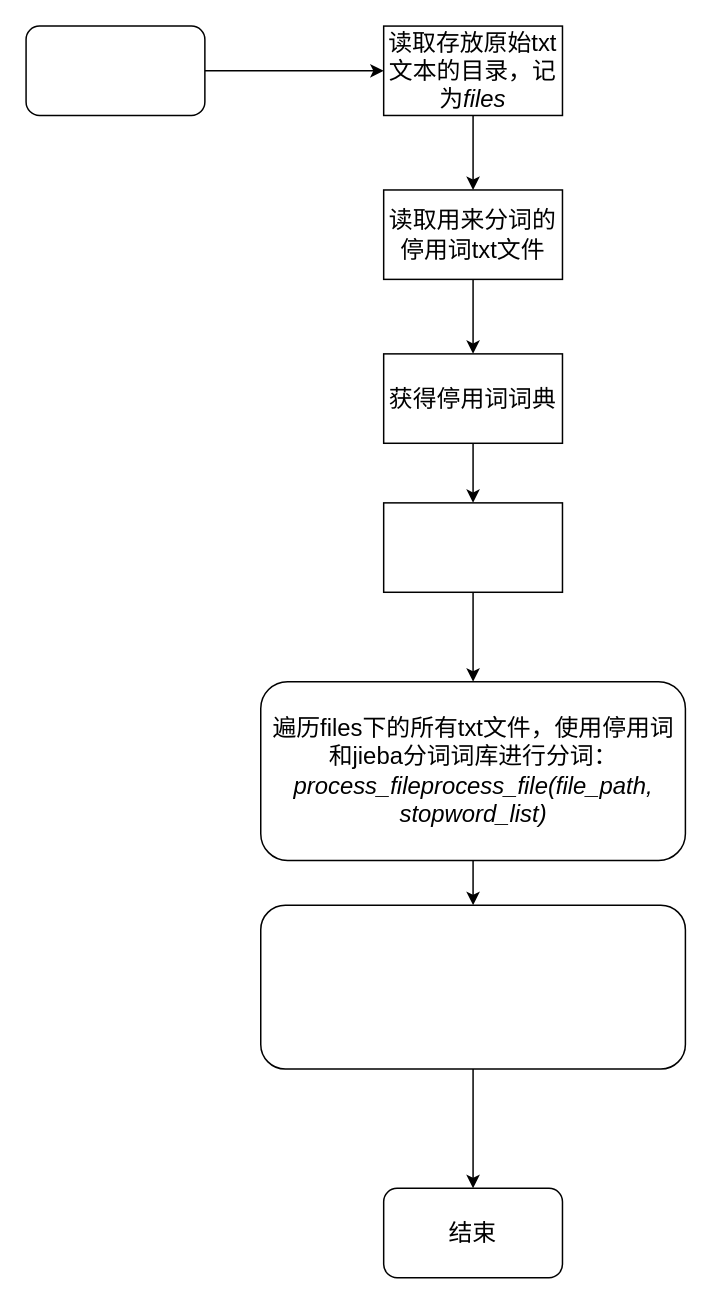
The diagram is 712 pixels wide and 1304 high, and some of its shapes have lost their labels. The shapes that lost their labels are listed below. From the top down, each one's centre as x and y in pixels, then its label:
the point at 115,70: 开始
the point at 472,546: 读取包换需要记录的关键词的txt文件
the point at 472,986: 统计关键词词频，并写入文件中 keyword_count = count_keyword_in_lines(lines, keywords)
